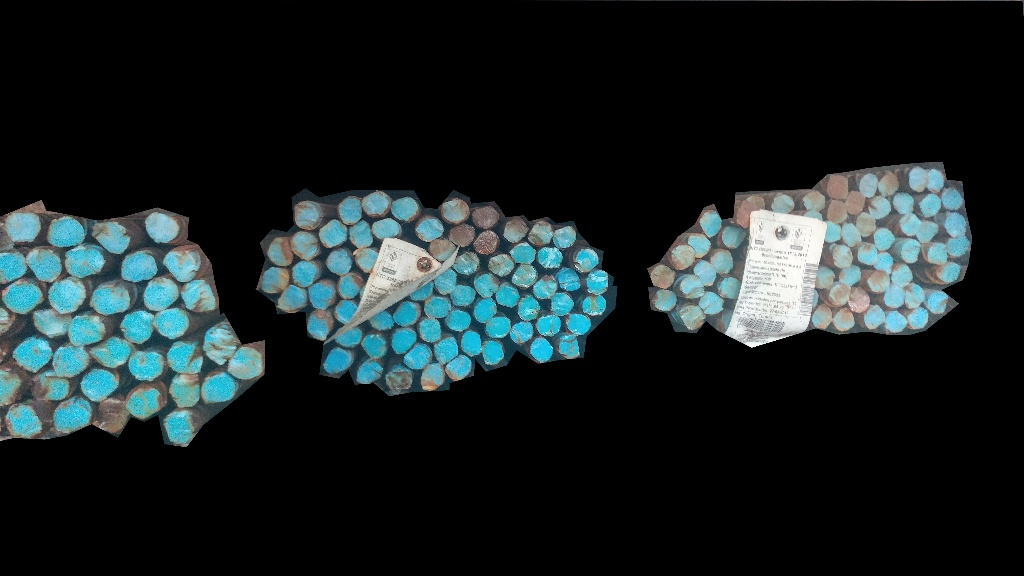dipstick: (202, 326, 237, 366), (63, 245, 106, 277), (1, 283, 44, 314), (225, 345, 263, 380), (91, 222, 131, 254), (45, 216, 86, 247), (93, 396, 129, 431), (31, 308, 73, 338), (81, 368, 118, 402), (47, 279, 85, 312), (53, 402, 91, 435), (90, 336, 129, 368), (143, 277, 178, 312), (26, 247, 61, 282), (167, 342, 204, 375), (163, 250, 201, 282), (13, 340, 51, 372), (91, 285, 131, 315), (129, 349, 165, 382), (52, 344, 88, 377), (5, 405, 41, 438), (180, 281, 217, 313), (120, 253, 159, 283), (152, 308, 190, 338), (169, 373, 200, 409), (126, 388, 162, 419), (69, 315, 105, 346), (120, 310, 153, 343), (144, 213, 180, 243), (5, 212, 41, 242), (29, 374, 71, 399), (201, 374, 234, 404), (163, 411, 193, 443), (306, 309, 333, 342), (276, 284, 306, 313), (290, 229, 318, 260), (1, 252, 27, 285), (318, 219, 347, 247), (293, 200, 322, 228), (403, 344, 432, 371), (433, 335, 459, 365), (266, 236, 293, 264), (326, 248, 352, 277), (308, 280, 333, 310), (260, 268, 290, 293), (441, 198, 470, 223), (1, 370, 20, 407), (678, 305, 705, 331), (573, 248, 599, 275), (502, 218, 529, 244), (585, 268, 609, 297), (338, 197, 362, 226), (349, 219, 373, 248), (421, 362, 444, 392), (527, 220, 553, 246), (535, 245, 563, 269), (389, 198, 417, 222), (361, 191, 389, 215), (371, 218, 403, 239), (324, 348, 350, 373), (416, 217, 443, 241), (444, 355, 471, 379), (509, 242, 537, 265), (471, 206, 499, 229), (360, 334, 388, 357), (679, 275, 704, 300), (532, 273, 557, 298), (453, 250, 478, 275), (354, 247, 379, 272), (291, 260, 316, 285), (736, 202, 760, 228), (697, 290, 723, 314), (473, 229, 497, 255), (417, 317, 441, 343), (390, 328, 416, 352), (434, 268, 457, 295), (533, 315, 561, 337), (355, 363, 383, 385), (385, 369, 414, 390), (670, 245, 694, 270), (512, 264, 537, 288), (475, 273, 499, 298), (392, 302, 416, 327), (649, 266, 675, 289), (565, 312, 591, 335), (516, 296, 539, 322), (488, 253, 514, 276), (480, 340, 503, 366), (338, 275, 364, 298), (484, 316, 511, 338), (334, 326, 362, 347), (722, 225, 746, 249), (529, 337, 553, 361), (509, 321, 533, 345), (449, 224, 473, 248), (944, 235, 969, 258), (687, 234, 710, 259), (495, 282, 518, 307), (474, 298, 497, 323), (450, 285, 475, 308), (863, 304, 885, 330), (423, 296, 450, 317), (867, 197, 891, 220), (582, 294, 606, 317), (446, 309, 470, 332), (848, 287, 870, 312), (811, 303, 833, 328), (652, 289, 677, 311), (549, 293, 574, 315), (333, 300, 358, 322), (917, 194, 940, 217), (825, 175, 848, 198), (557, 268, 580, 291), (699, 213, 721, 237), (554, 226, 576, 250), (945, 212, 966, 237), (694, 261, 715, 286), (559, 334, 580, 359), (908, 166, 928, 192), (428, 240, 454, 260), (915, 219, 938, 241), (907, 306, 930, 328), (885, 310, 908, 332), (873, 227, 895, 250), (833, 307, 855, 330), (717, 277, 739, 300), (903, 284, 924, 308), (712, 250, 733, 274), (770, 194, 795, 214), (461, 331, 480, 357), (826, 200, 848, 222), (878, 173, 899, 196), (900, 213, 921, 236), (884, 286, 905, 309), (867, 270, 890, 291), (892, 262, 912, 286), (844, 189, 864, 213), (368, 312, 393, 331), (941, 188, 963, 209), (830, 283, 851, 305), (832, 245, 853, 267), (927, 291, 947, 314), (926, 168, 944, 193), (839, 265, 861, 285), (856, 243, 875, 266), (841, 222, 860, 245), (802, 192, 825, 211), (410, 281, 433, 300), (859, 172, 877, 196), (856, 212, 874, 236), (824, 219, 842, 243), (927, 243, 947, 264), (894, 193, 914, 214), (939, 262, 961, 281), (815, 266, 834, 287), (902, 240, 920, 262), (873, 253, 893, 269), (747, 195, 766, 210), (804, 210, 822, 222)
